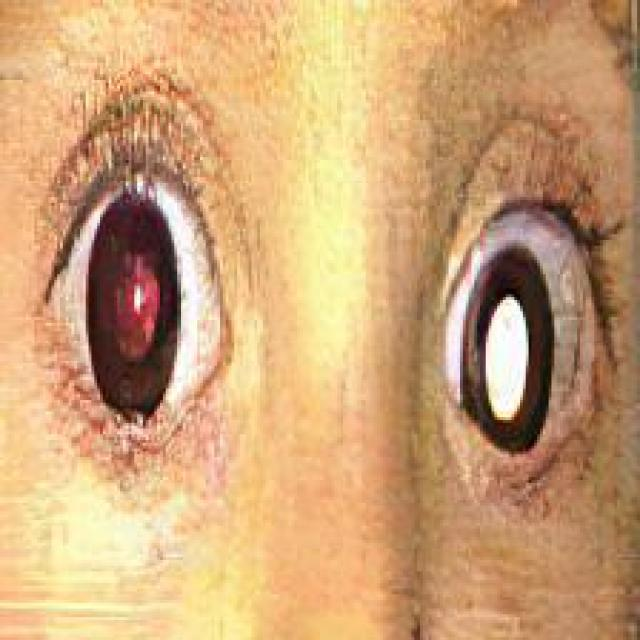reflexo-alterado: (441, 188, 591, 475)
reflexo-normal: (49, 137, 234, 428)
